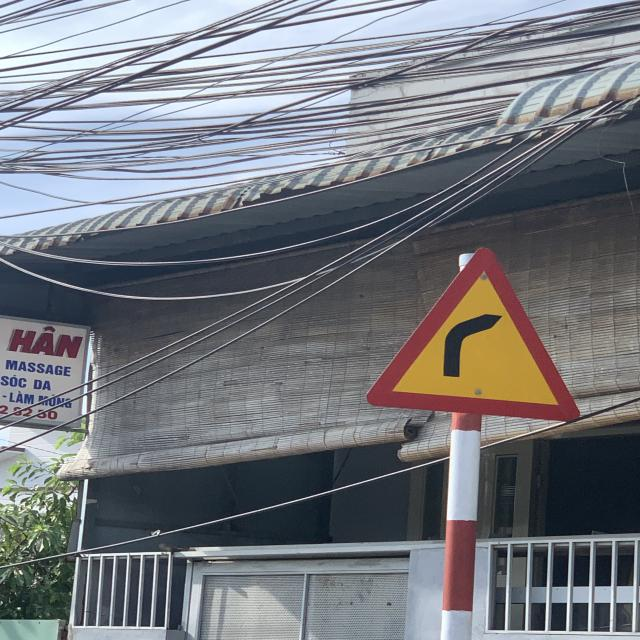Duong_Nguoi_Di_Bo_Cat_Ngang: (364, 246, 581, 423)
